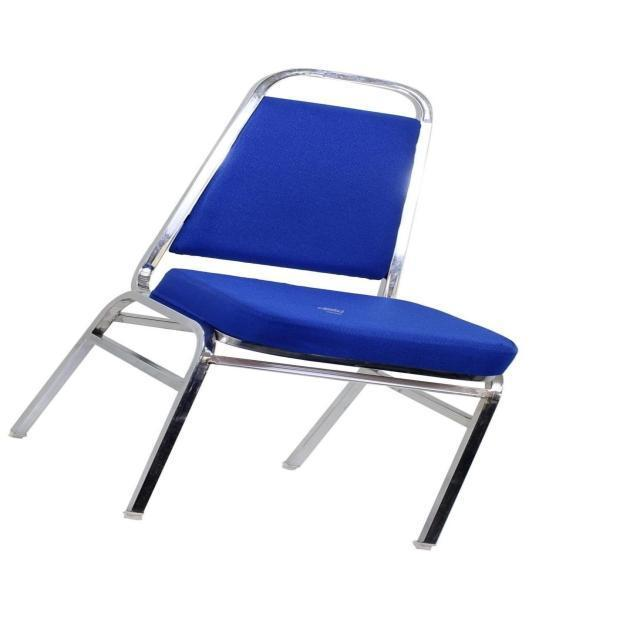chair: (4, 64, 527, 554)
